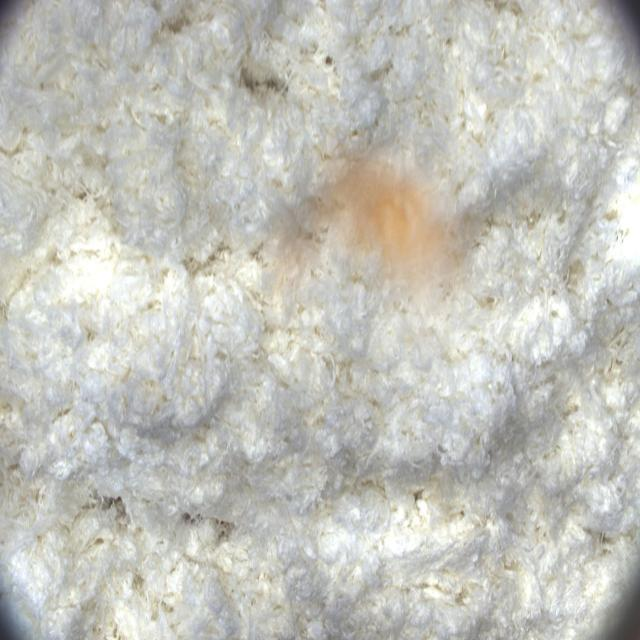dust: (262, 130, 494, 349)
